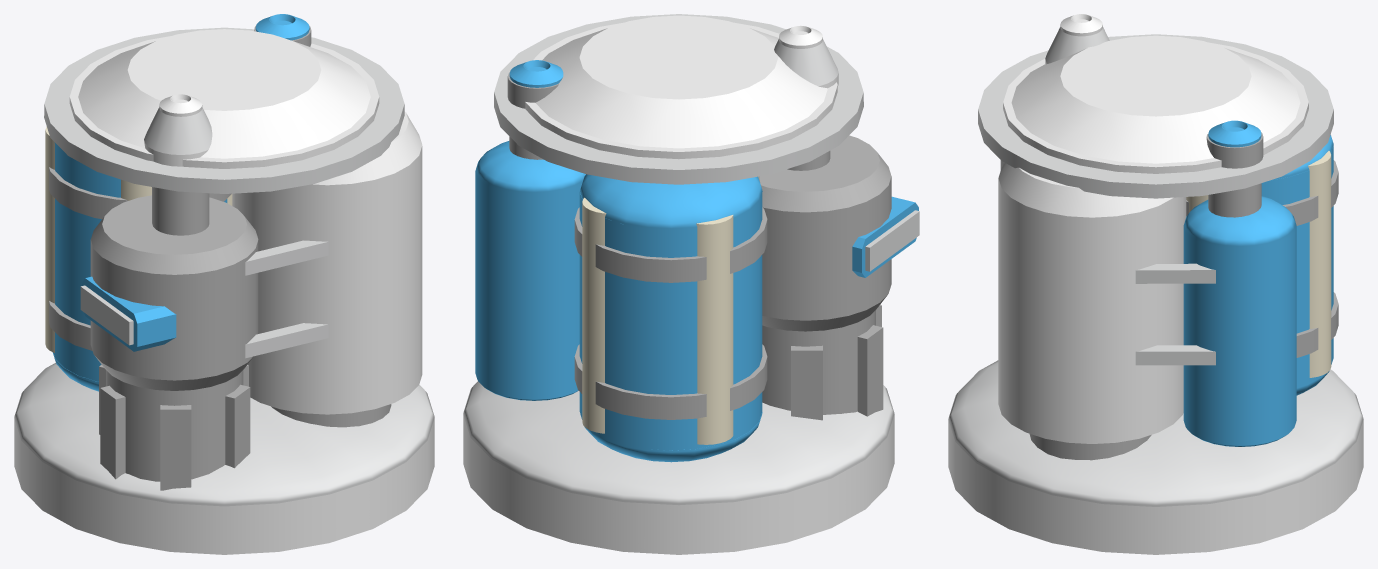
Rendered from WaterProcesser.fbx.
The picture shows the model from 3 angles, left to right: view 1: azimuth 30°, elevation 25°; view 2: azimuth 150°, elevation 25°; view 3: azimuth 270°, elevation 25°; orthographic projection. The views are drawn at different scales.
Visible parts, largest first — view 1: oxygen generation_mesh; view 2: oxygen generation_mesh; view 3: oxygen generation_mesh.
Boxes of the visible parts, bbox=[...] form: oxygen generation_mesh: bbox=[14, 14, 434, 554]; oxygen generation_mesh: bbox=[463, 14, 919, 554]; oxygen generation_mesh: bbox=[948, 14, 1363, 554].
Bounding box in the file's own units: 77.54 × 84.4 × 77.54.
